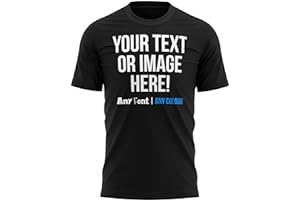design: (110, 31, 189, 106)
